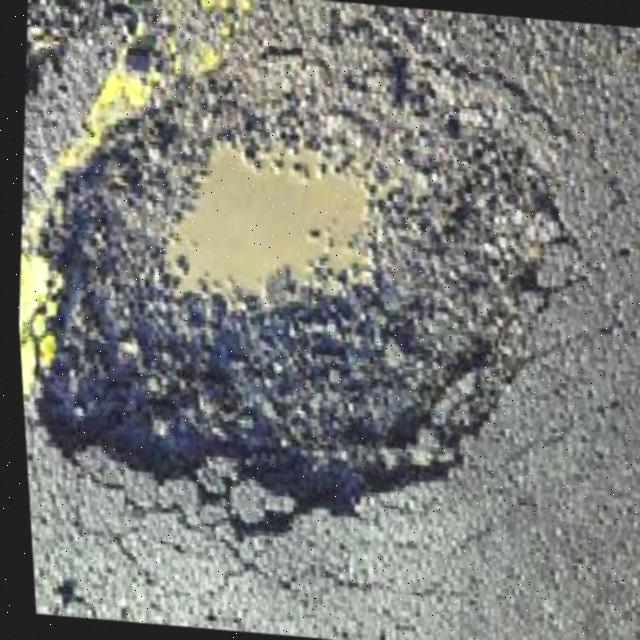Pothole: (0, 0, 598, 574)
